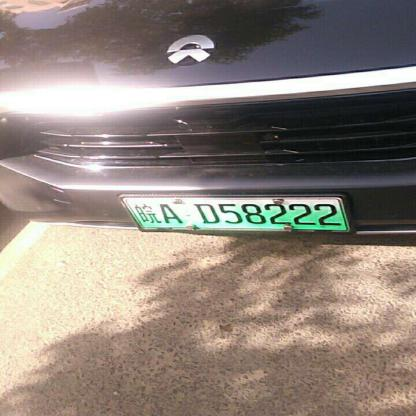lp: (125, 197, 348, 229)
